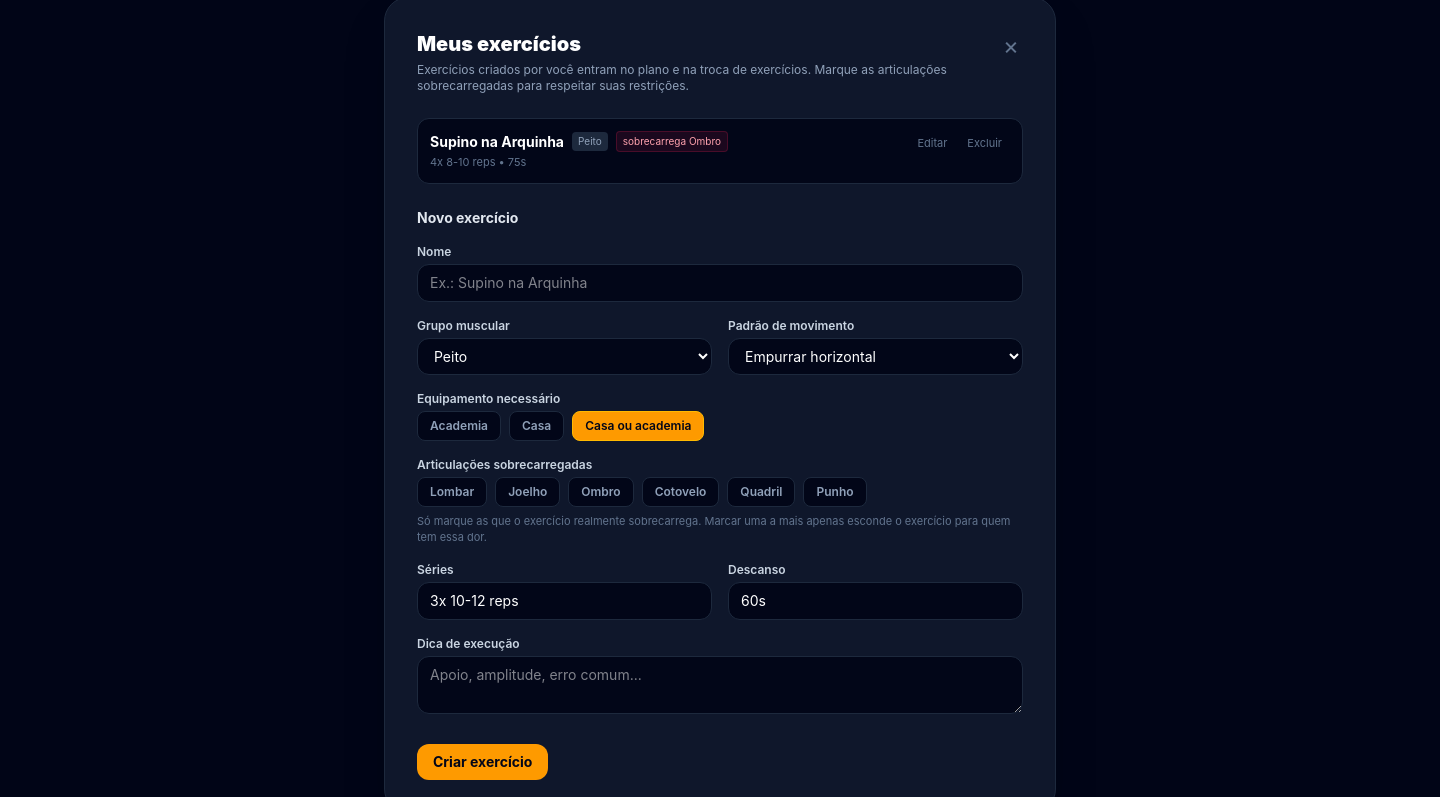
CustomExercisesModal — exclusão › pede confirmação antes de excluir
What coordinates should you click on to do the following:
click the button "Excluir"
I would click on:
 (985, 144)
Its box is [959,131,1010,156].
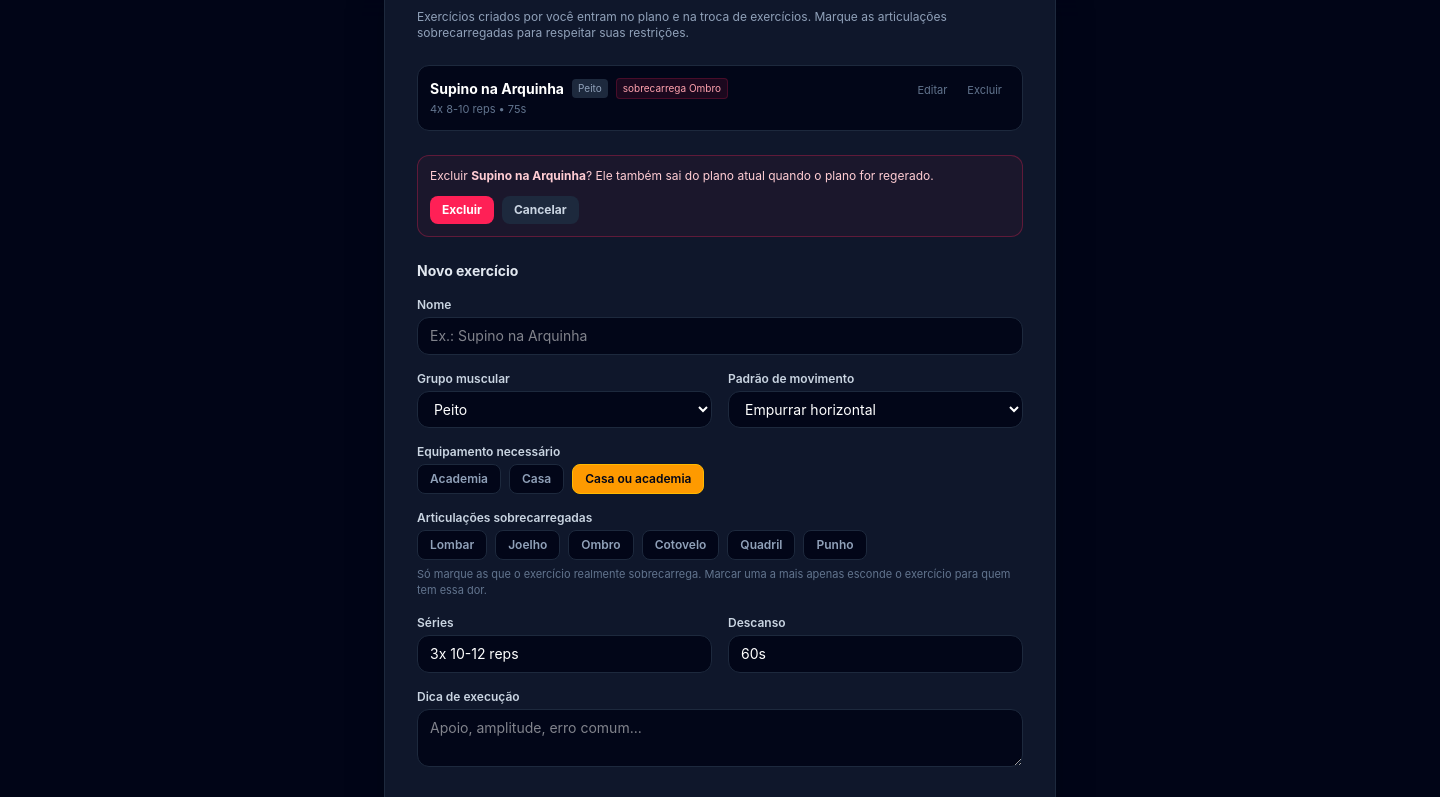
Now the element with id "custom-exercise-delete-confirm" is shown, box [417,155,1023,237]
